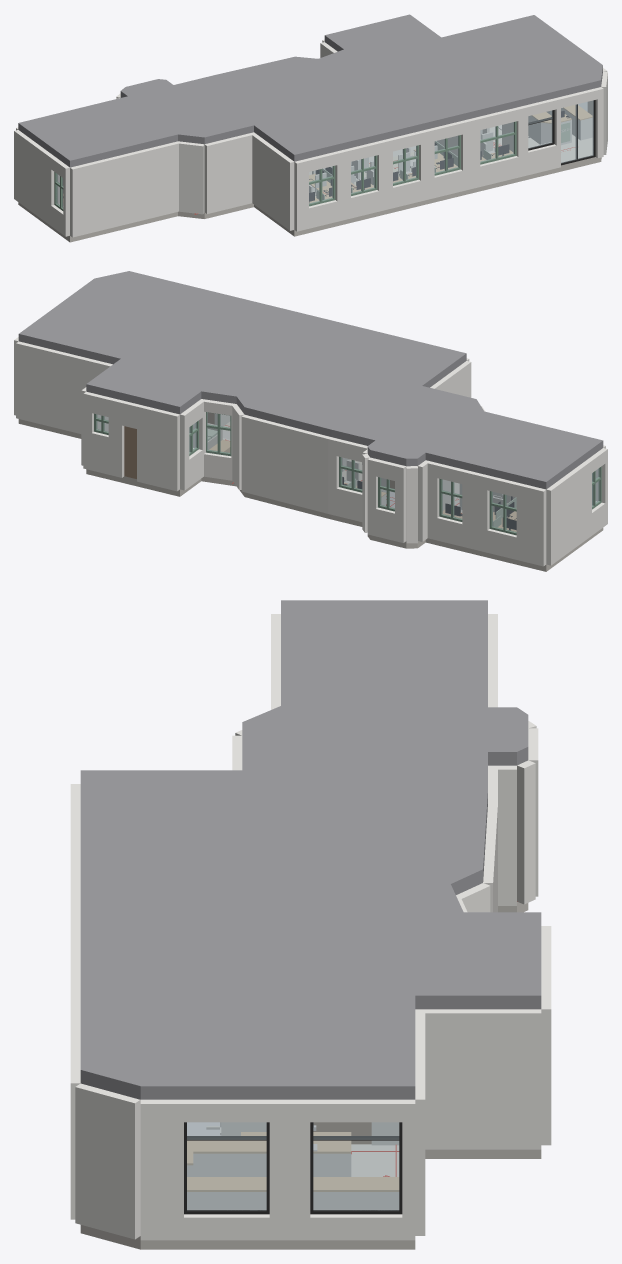
3 renders of one model, top to bottom at view 1: azimuth 30°, elevation 25°; view 2: azimuth 150°, elevation 25°; view 3: azimuth 270°, elevation 25°, orthographic. The views are drawn at different scales.
Parts seen in each view (by area): view 1: Roof_Slab, Walls_Exterior, Glass, Floor_Slab, Frames_Casement, Floor_Bagerbutik_10, Frames_Shopfront, Counter_Body, Bar_BackCounter_Body, Walls_Interior; view 2: Roof_Slab, Walls_Exterior, Glass, Floor_Slab, Frames_Casement, Doors; view 3: Roof_Slab, Walls_Exterior, Glass, Floor_Slab, Frames_Shopfront, Bar_BackCounter_Body, Counter_Body, Bar_BackCounter_Top, Counter_Top, Floor_Bagerbutik_10, Walls_Interior.
Boxes of the visible parts, x1,y1,x2,y2 form: Roof_Slab: (18,14,602,167); Walls_Exterior: (14,39,607,237); Glass: (56,100,593,207); Floor_Slab: (18,157,601,242); Frames_Casement: (54,121,516,210); Floor_Bagerbutik_10: (489,125,592,162); Frames_Shopfront: (528,100,595,165); Counter_Body: (528,115,571,144); Bar_BackCounter_Body: (547,108,592,140); Walls_Interior: (312,122,513,174); Roof_Slab: (18,271,603,489); Walls_Exterior: (14,337,607,566); Glass: (96,412,599,532); Floor_Slab: (18,419,603,571); Frames_Casement: (94,412,601,535); Doors: (124,412,394,488); Roof_Slab: (80,600,541,1099); Walls_Exterior: (70,614,551,1240); Glass: (187,1122,398,1210); Floor_Slab: (80,902,541,1249); Frames_Shopfront: (184,1122,402,1214); Bar_BackCounter_Body: (187,1192,399,1208); Counter_Body: (187,1153,351,1176); Bar_BackCounter_Top: (187,1177,399,1191); Counter_Top: (187,1140,351,1165); Floor_Bagerbutik_10: (351,1144,399,1176); Walls_Interior: (221,1122,399,1145).
Size of the model in its own units: 23.35 by 3.6 by 9.59.
